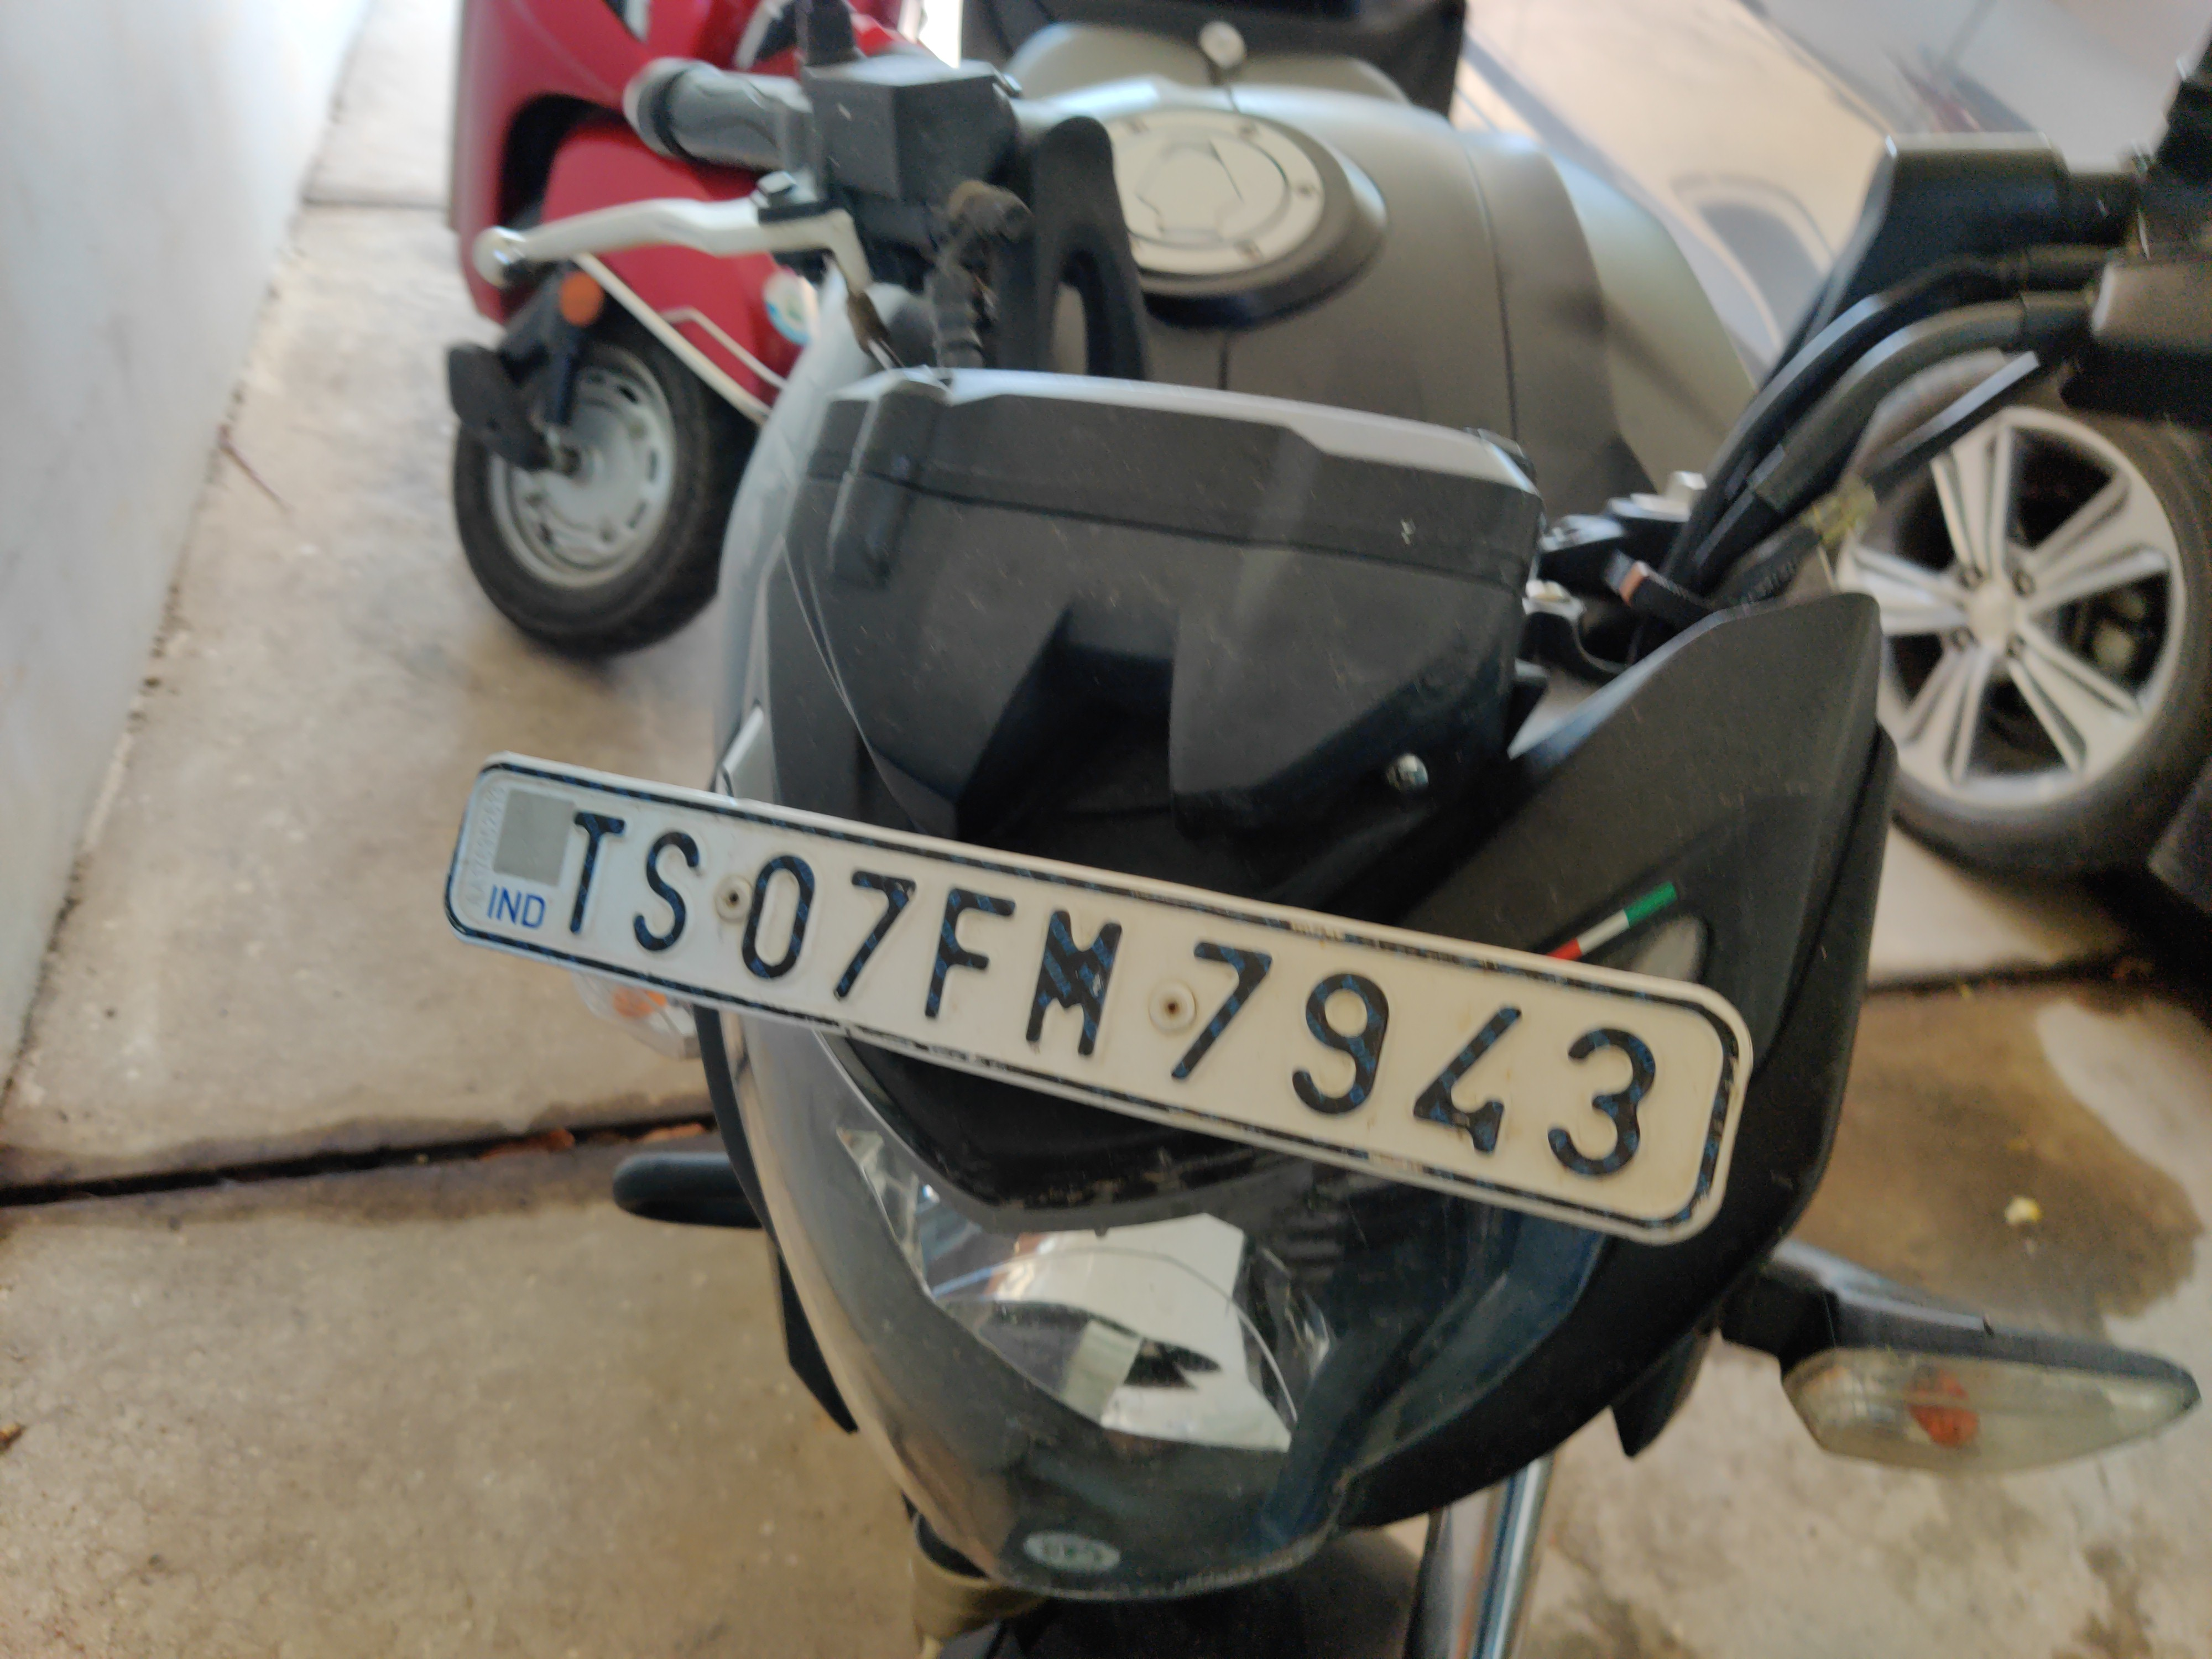plate: (433, 734, 1788, 1279)
